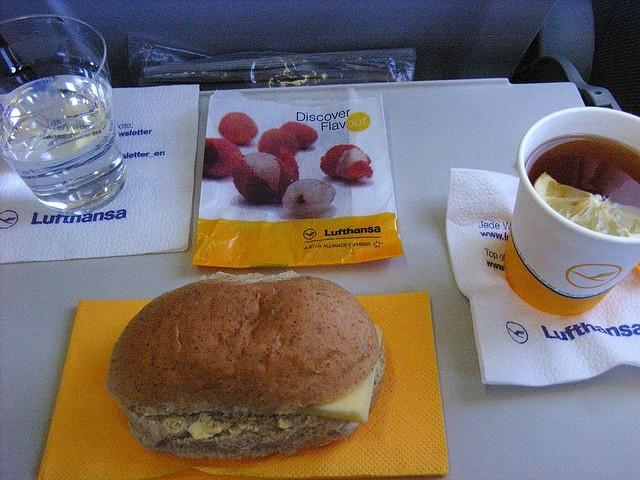lemon: (534, 172, 640, 237)
